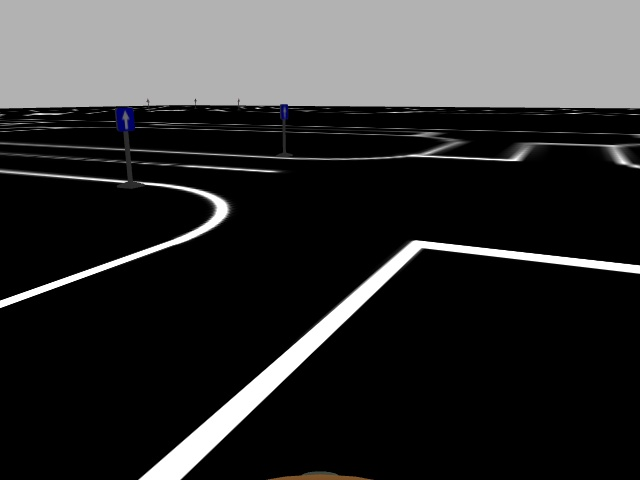oneway: (114, 105, 137, 134)
